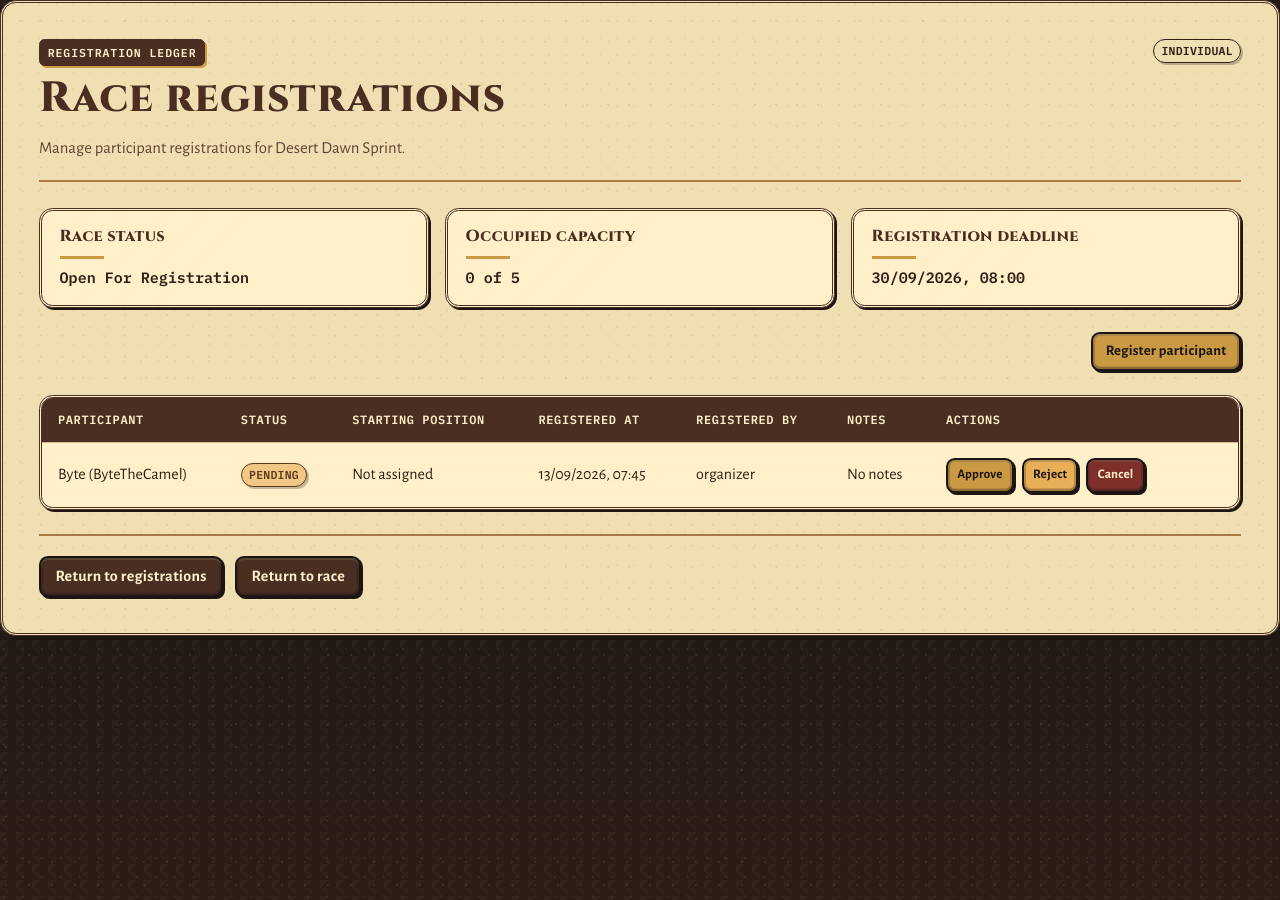
Test case: RaceRegistrationsPage › shows feedback dialog after approving a registration
This screenshot has width=1280, height=900.
Click the button "Approve": (980,475) [946,458,1014,493]
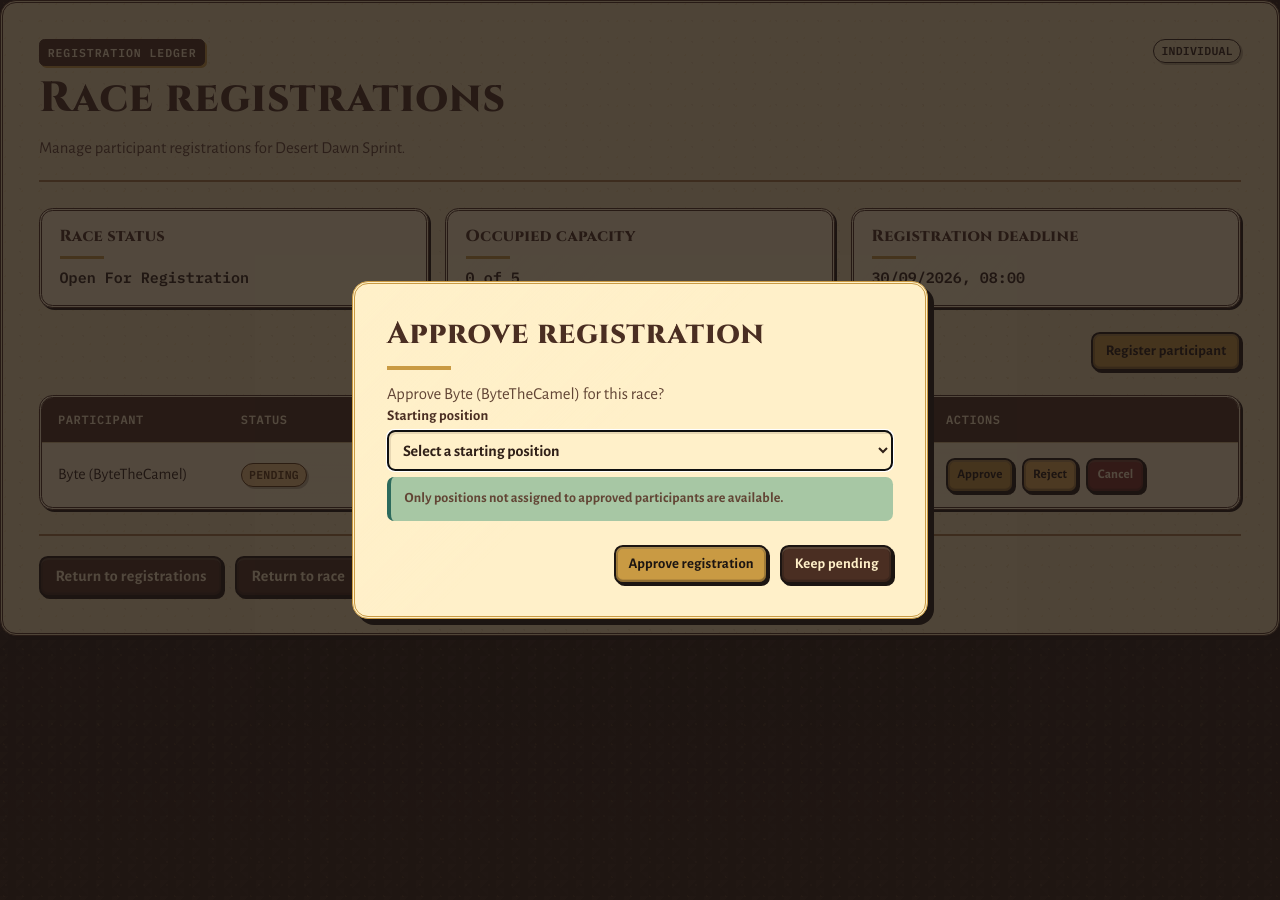
Select "1" in the dropdown labelled "Starting position": (640,451) [387,430,893,471]
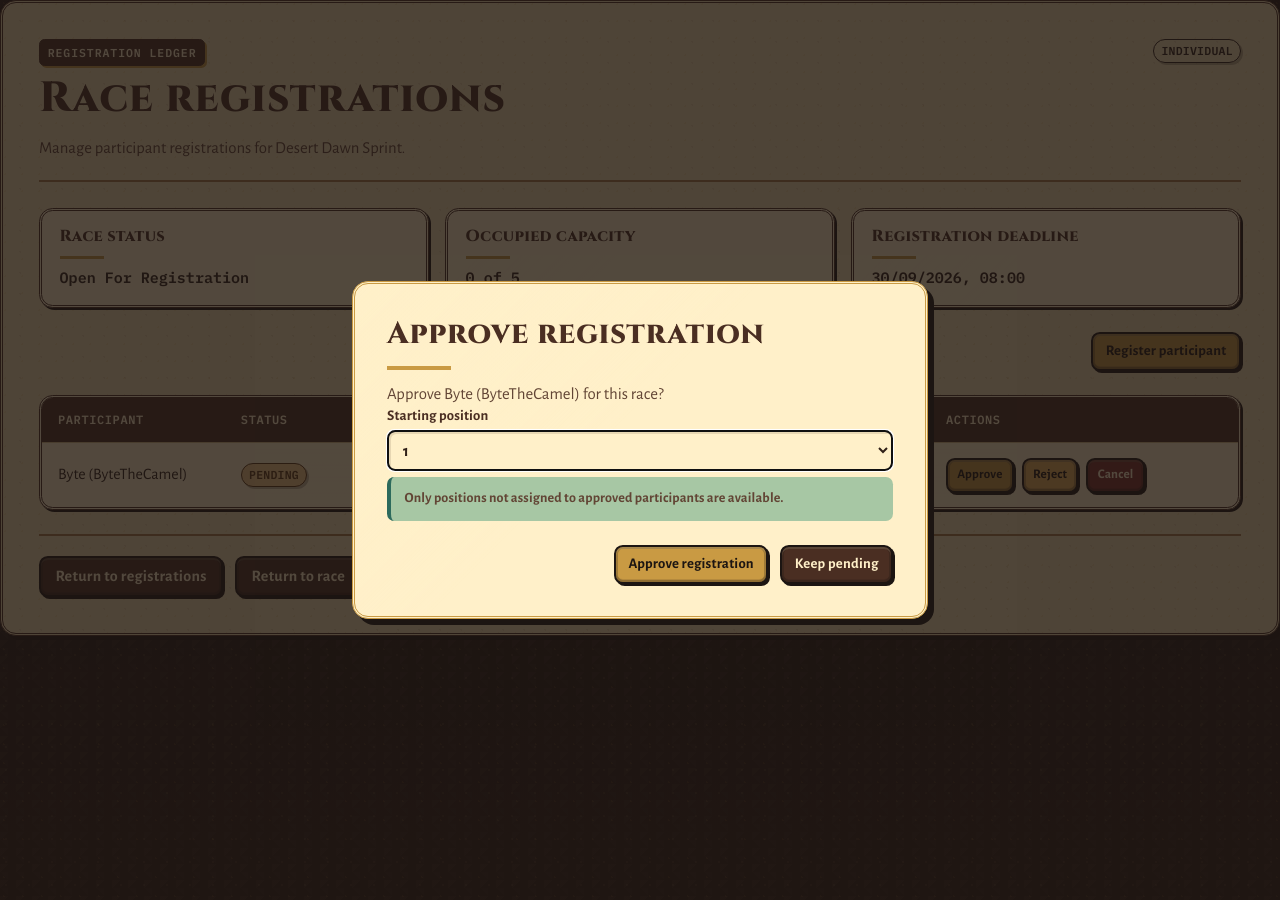
Click the button "Approve registration": (691,564) [614,544,768,584]
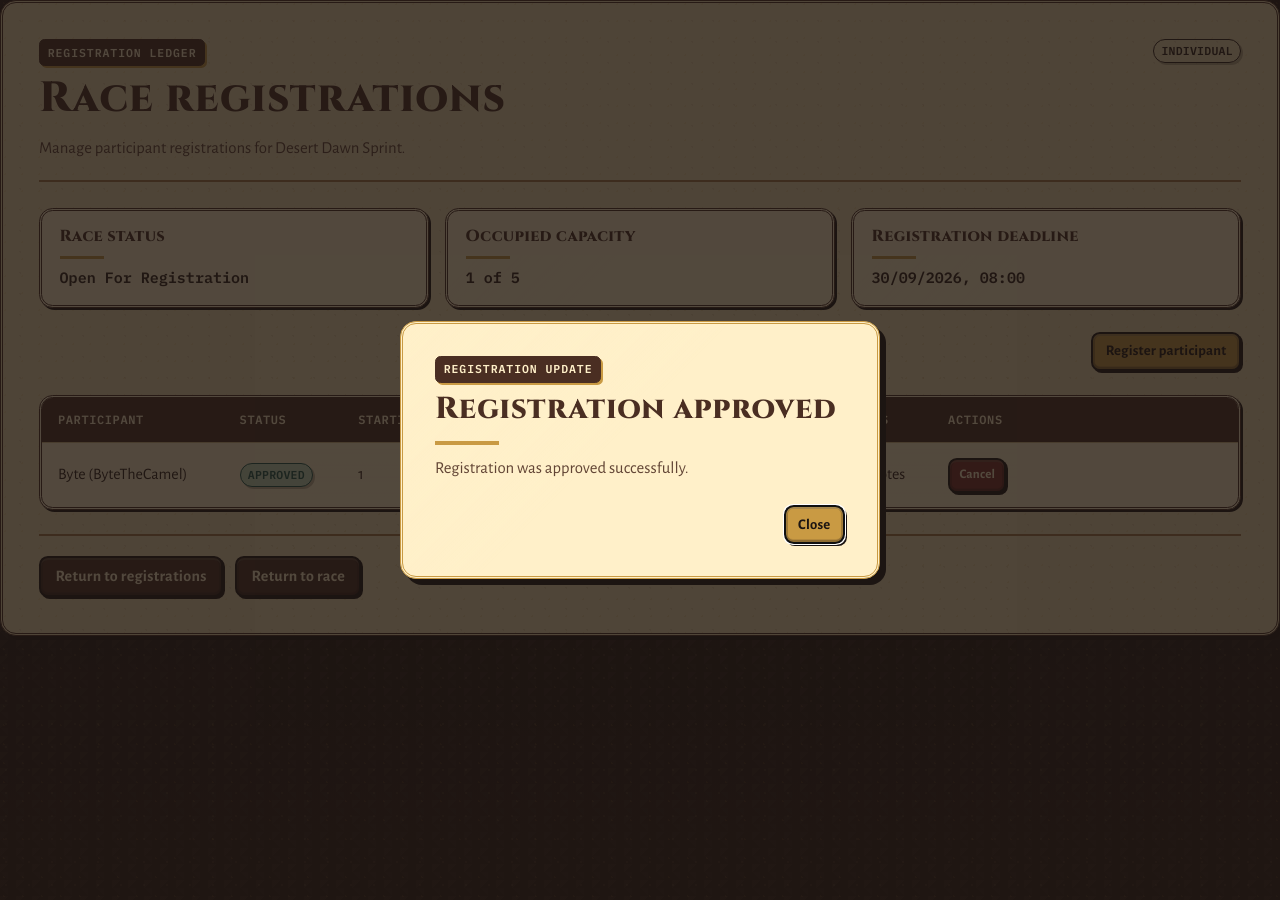
Check: the dialog "Registration approved" is shown, box [400,321,880,579]
Check: the text "Registration was approved successfully." is shown, box [435,460,688,476]
